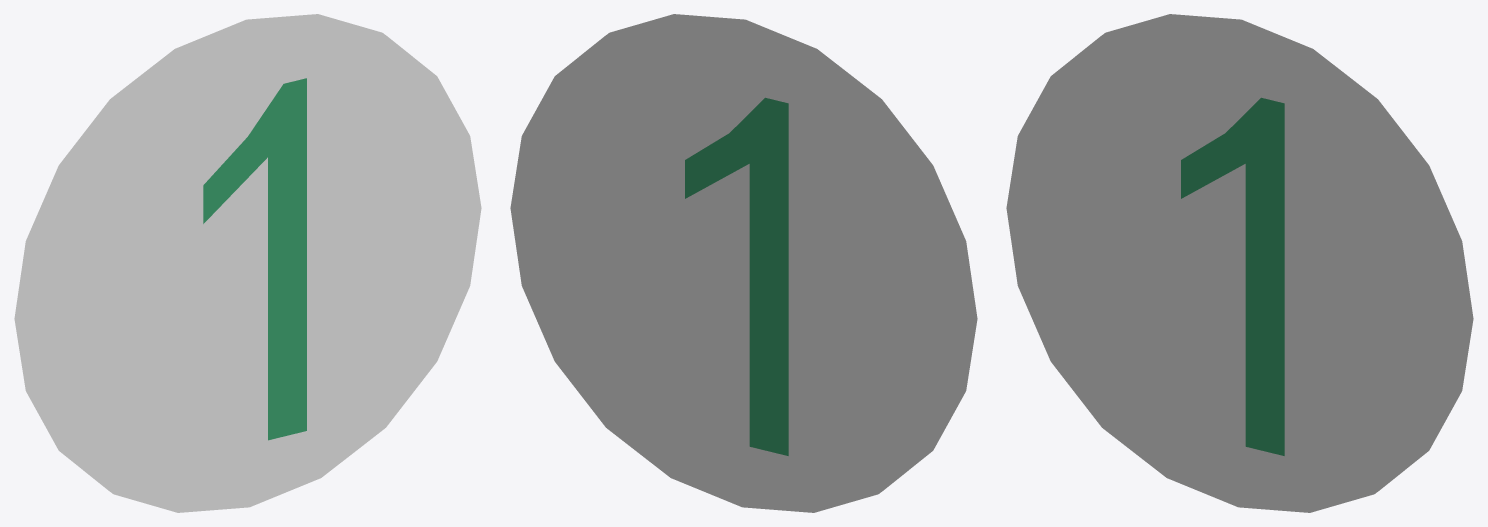
Rendered from text_window1.fbx.
3 views of the same model, side by side, from view 1: azimuth 30°, elevation 25°; view 2: azimuth 150°, elevation 25°; view 3: azimuth 330°, elevation 25° (orthographic).
Visible parts, largest first — view 1: text_window1; view 2: text_window1; view 3: text_window1.
Part boxes in pixels (x1,y1,x2,y2): text_window1: (14, 14, 481, 512); text_window1: (510, 14, 977, 512); text_window1: (1006, 14, 1473, 512).
Bounding box in the file's own units: 33.29 × 33.29 × 1.78.
